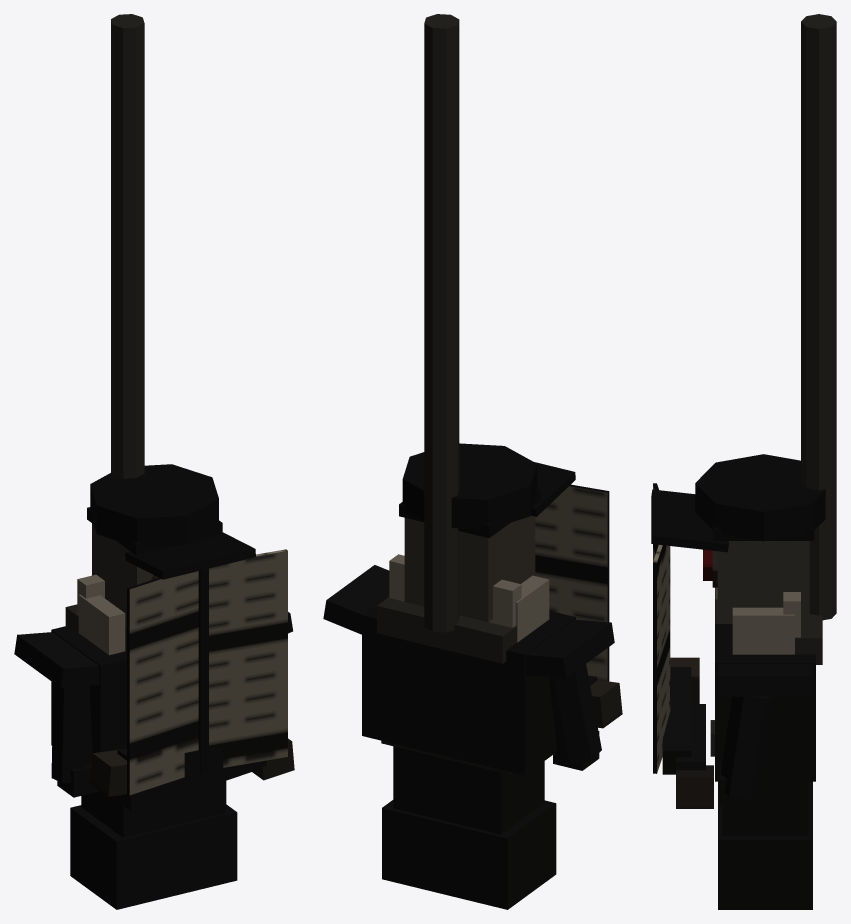
The model's file is CP_Observer.fbx.
3 views of the same model, side by side, from view 1: azimuth 30°, elevation 25°; view 2: azimuth 150°, elevation 25°; view 3: azimuth 270°, elevation 25° (orthographic). The views are drawn at different scales.
Visible parts, largest first — view 1: CP_Observer, Newspaper; view 2: CP_Observer, Newspaper; view 3: CP_Observer, Newspaper.
Part boxes in pixels (box(x1,y1,x2,y2)): CP_Observer: box(14, 14, 294, 909); Newspaper: box(127, 549, 287, 795); CP_Observer: box(323, 14, 622, 909); Newspaper: box(535, 484, 609, 681); CP_Observer: box(651, 14, 836, 909); Newspaper: box(653, 483, 670, 773).
Size of the model in its own units: 463 by 1595 by 312.
Materials: 1 (1 with a texture image).
